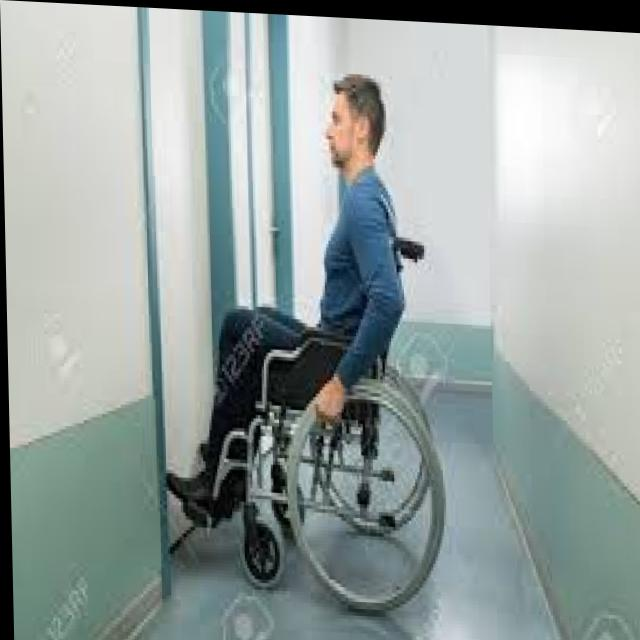wheelchair: (163, 60, 447, 610)
